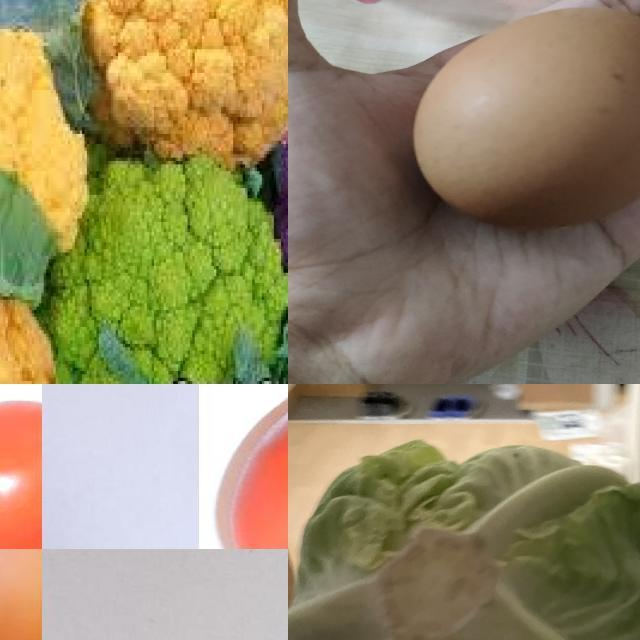cabbage: (289, 437, 640, 640)
egg: (411, 6, 640, 232)
tomato: (200, 385, 289, 550), (1, 385, 43, 550)
